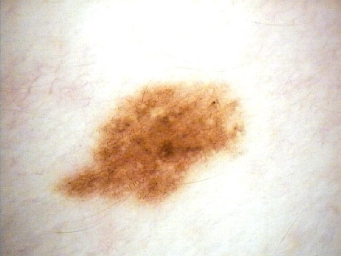nevus: (53, 85, 248, 205)
